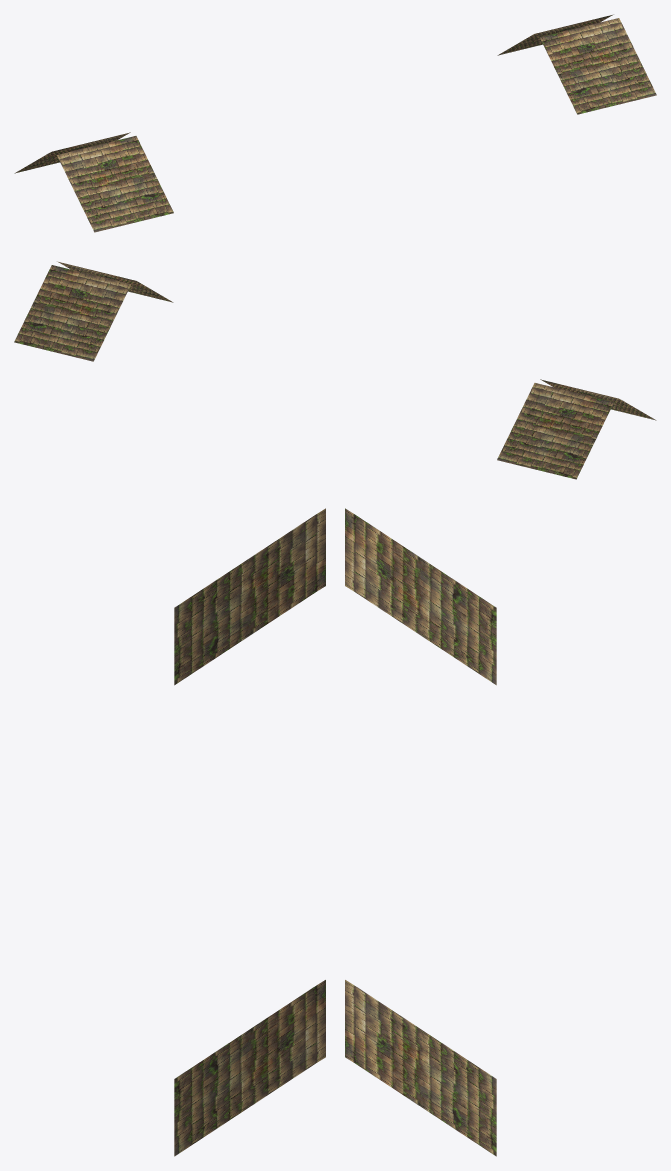
File: gaul_theatron_roof.dae
3 renders of one model, top to bottom at view 1: azimuth 30°, elevation 25°; view 2: azimuth 150°, elevation 25°; view 3: azimuth 270°, elevation 25°, orthographic. The views are drawn at different scales.
Parts seen in each view (by area): view 1: Cube.004; view 2: Cube.004; view 3: Cube.004.
Boxes of the visible parts, left/top/right/bottom form: Cube.004: left=14, top=14, right=656, bottom=232; Cube.004: left=14, top=261, right=656, bottom=479; Cube.004: left=174, top=508, right=496, bottom=1156.
Size of the model in its own units: 26.68 by 6.62 by 2.25.
